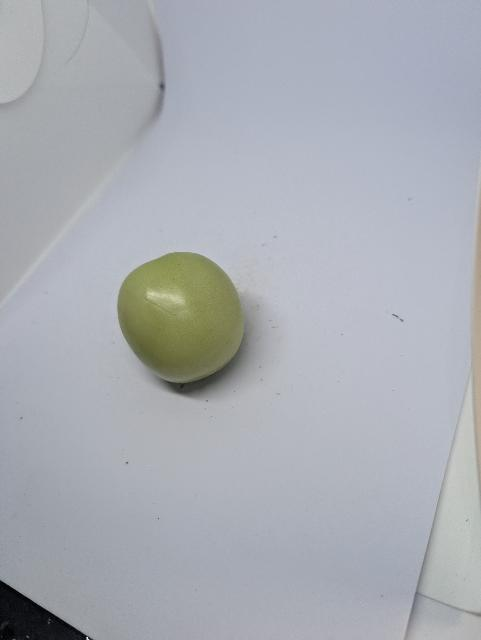green: (113, 247, 249, 388)
